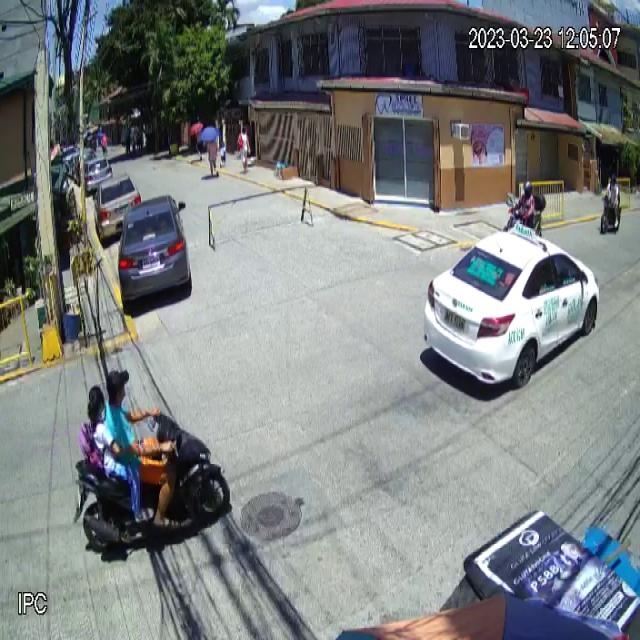Car: (424, 224, 600, 393), (118, 193, 192, 320)
Motorcycle: (72, 410, 233, 560)
